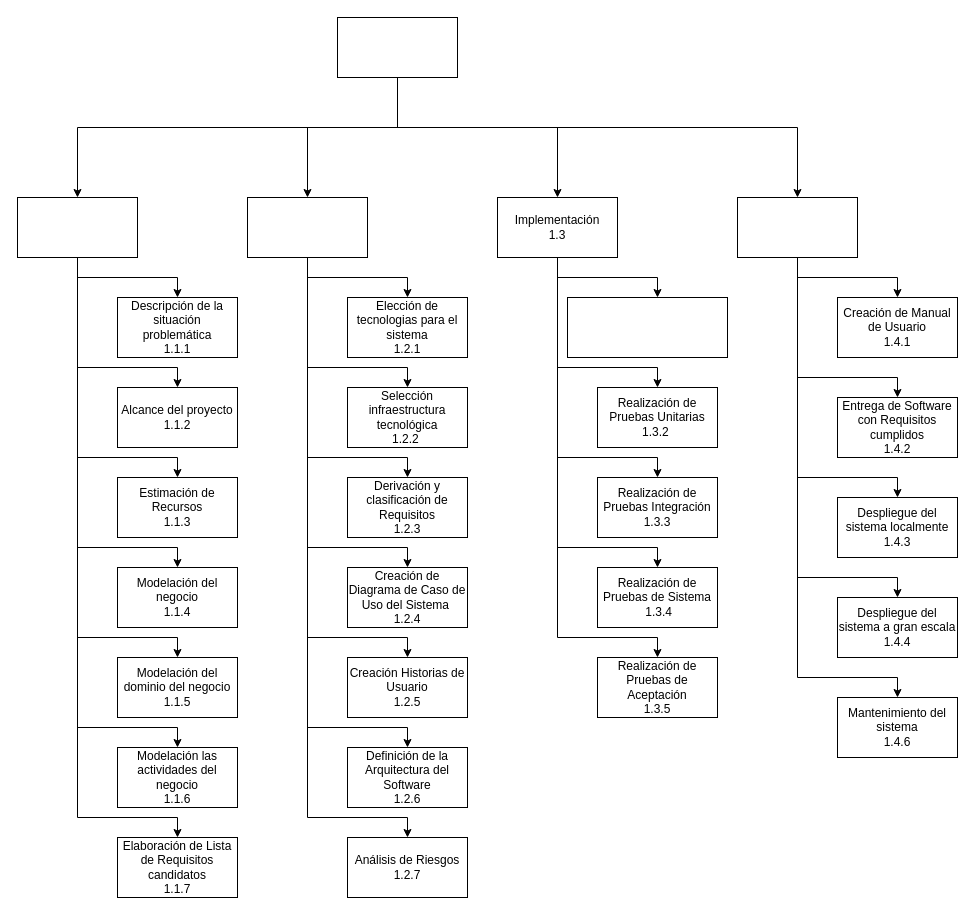
Image size: 975x915. Some labels were removed from this diagram. Each missing label, with the centre of its shape:
Desarrollo de XEJEL: (x=397, y=47)
Despliegue 1.4: (x=797, y=227)
Diseño 1.2: (x=307, y=227)
Planeación 1.1: (x=77, y=227)
Realización de la Desarrollo/Codificación del Software 1.3.1: (x=647, y=327)
